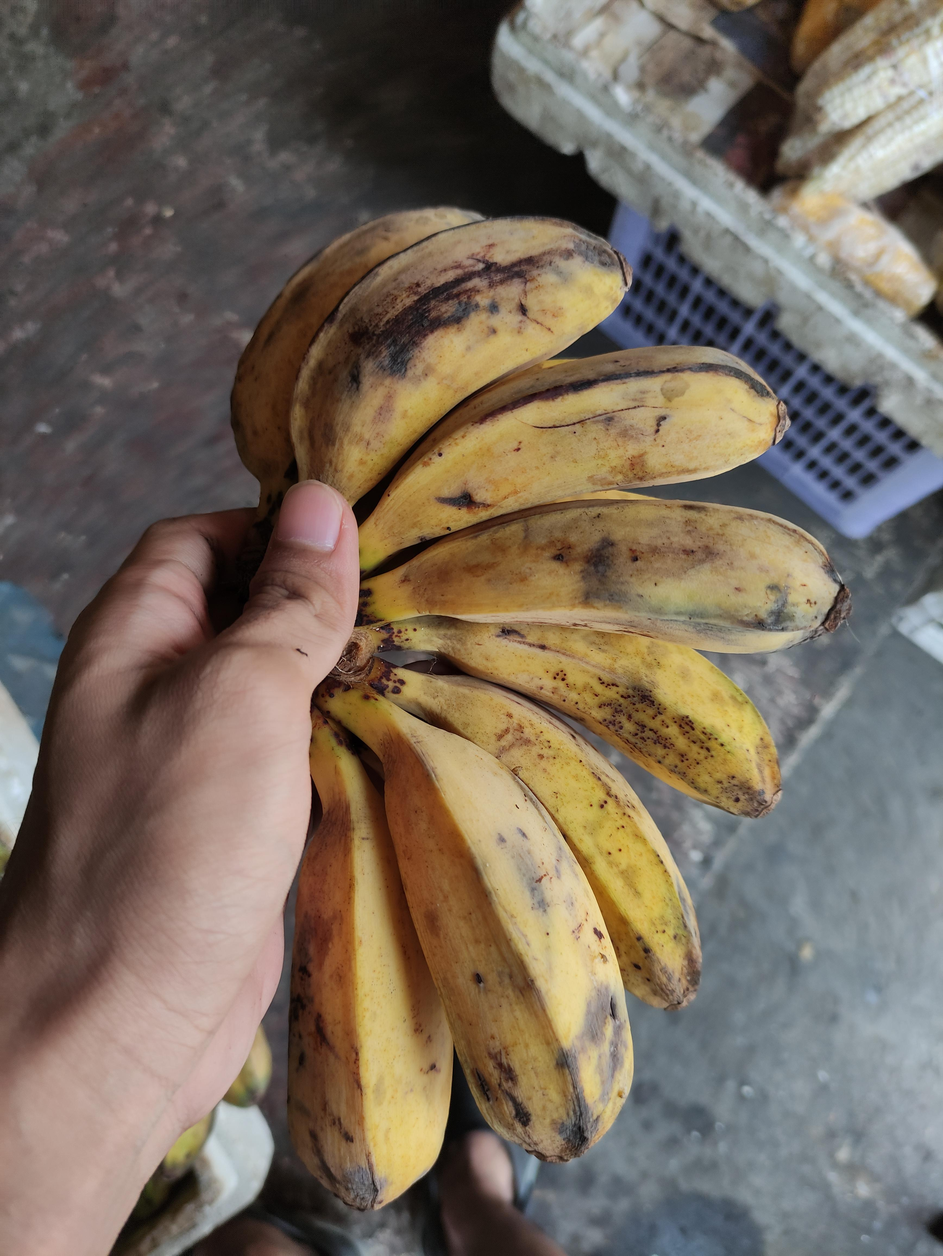ripe: (232, 208, 848, 1209)
